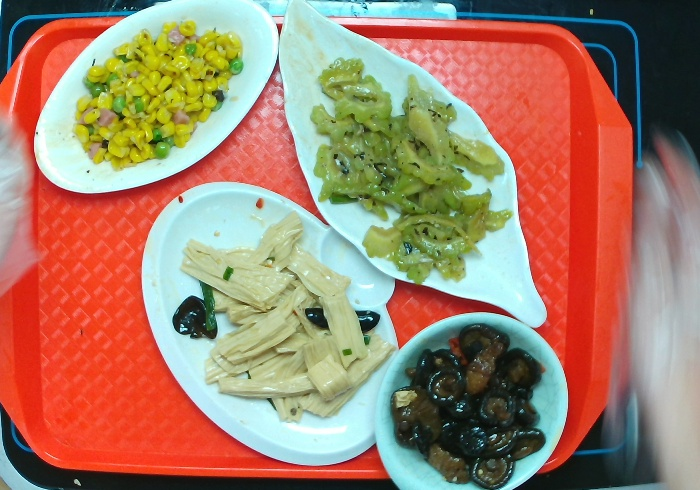RJxy-Bai_Se_Tuo_Yuan: (18, 1, 285, 205)
RJxy-Shu_Ye_Pan: (275, 1, 555, 333)
RJxy-Xiao_Jiao_Yuan_Wan: (367, 309, 569, 490)
RJxy-Zhan_Liao_Pan: (130, 174, 410, 476)
